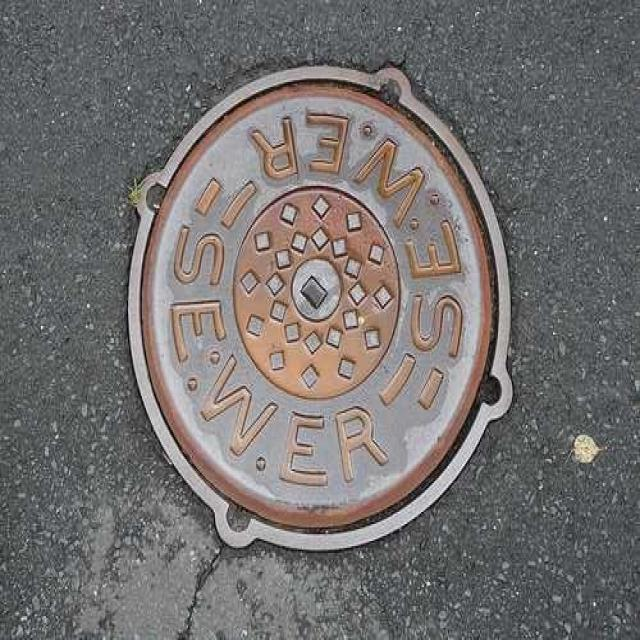manhole: (125, 63, 513, 556)
